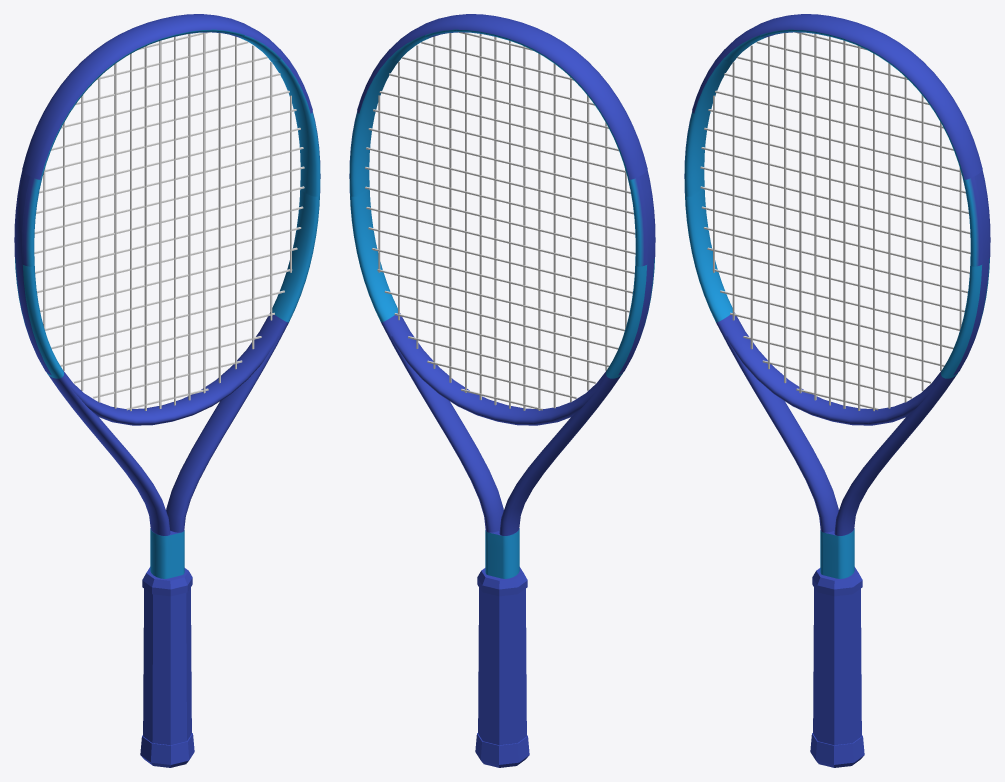
File: prince-ripcord-25-junior.glb
3 renders of one model, left to right at view 1: azimuth 30°, elevation 25°; view 2: azimuth 150°, elevation 25°; view 3: azimuth 330°, elevation 25°, orthographic.
Visible parts, largest first — view 1: frame, strings_mains, strings_crosses, grip, bumper, grommets, butt_cap, collar; view 2: frame, strings_mains, strings_crosses, grip, bumper, grommets, butt_cap, collar; view 3: frame, strings_mains, strings_crosses, grip, bumper, grommets, butt_cap, collar.
Boxes of the visible parts, x1,y1,x2,y2 form: frame: (14,29,320,578); strings_mains: (43,32,291,411); strings_crosses: (34,32,304,410); grip: (143,587,191,745); bumper: (22,14,312,179); grommets: (15,171,51,375); butt_cap: (140,733,194,767); collar: (142,567,192,596); frame: (349,29,655,578); strings_mains: (378,33,626,410); strings_crosses: (365,32,635,410); grip: (478,587,526,745); bumper: (357,14,647,179); grommets: (618,171,654,375); butt_cap: (475,733,529,767); collar: (477,567,527,596); frame: (684,29,990,578); strings_mains: (713,32,961,411); strings_crosses: (700,32,970,410); grip: (813,587,861,745); bumper: (692,14,982,179); grommets: (953,171,989,375); butt_cap: (810,733,864,767); collar: (812,567,862,596).
Bounding box in the file's own units: 0.2696 × 0.6353 × 0.0396.
